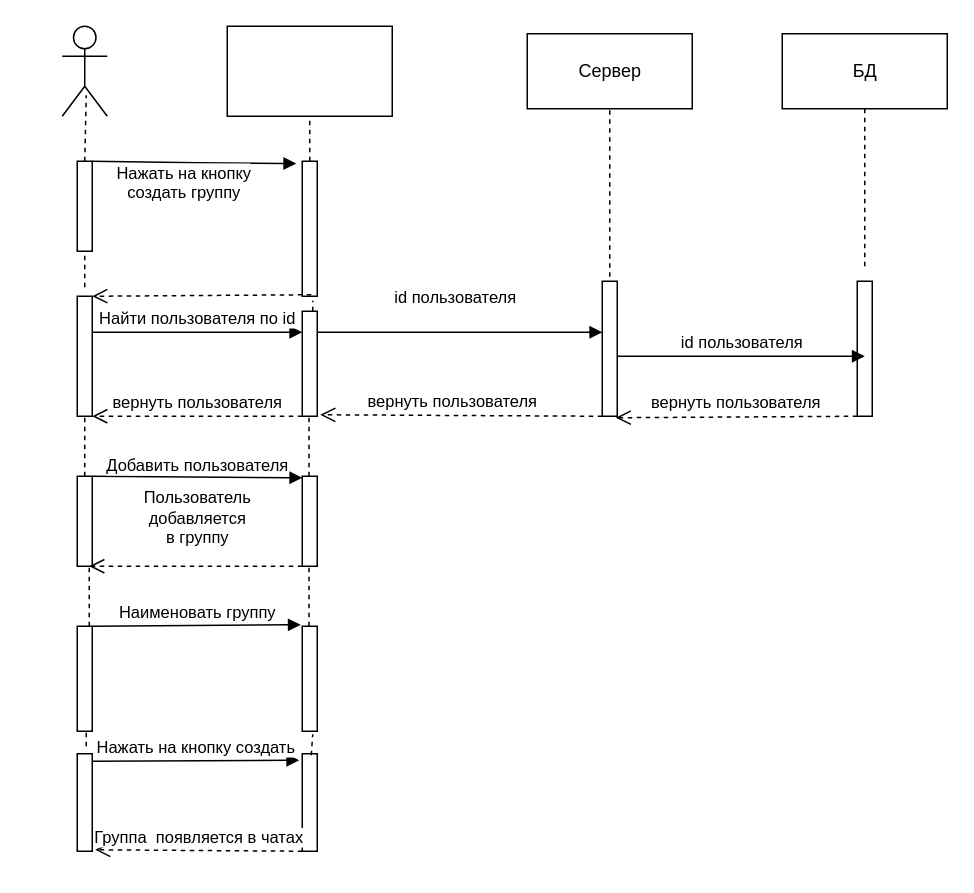
Some shapes in this 974 by 893 pixel diagram are drawn without their labels. Each missing label, with the centre of its shape:
Пользователь: pixel 84 70
Система: pixel 309 70
